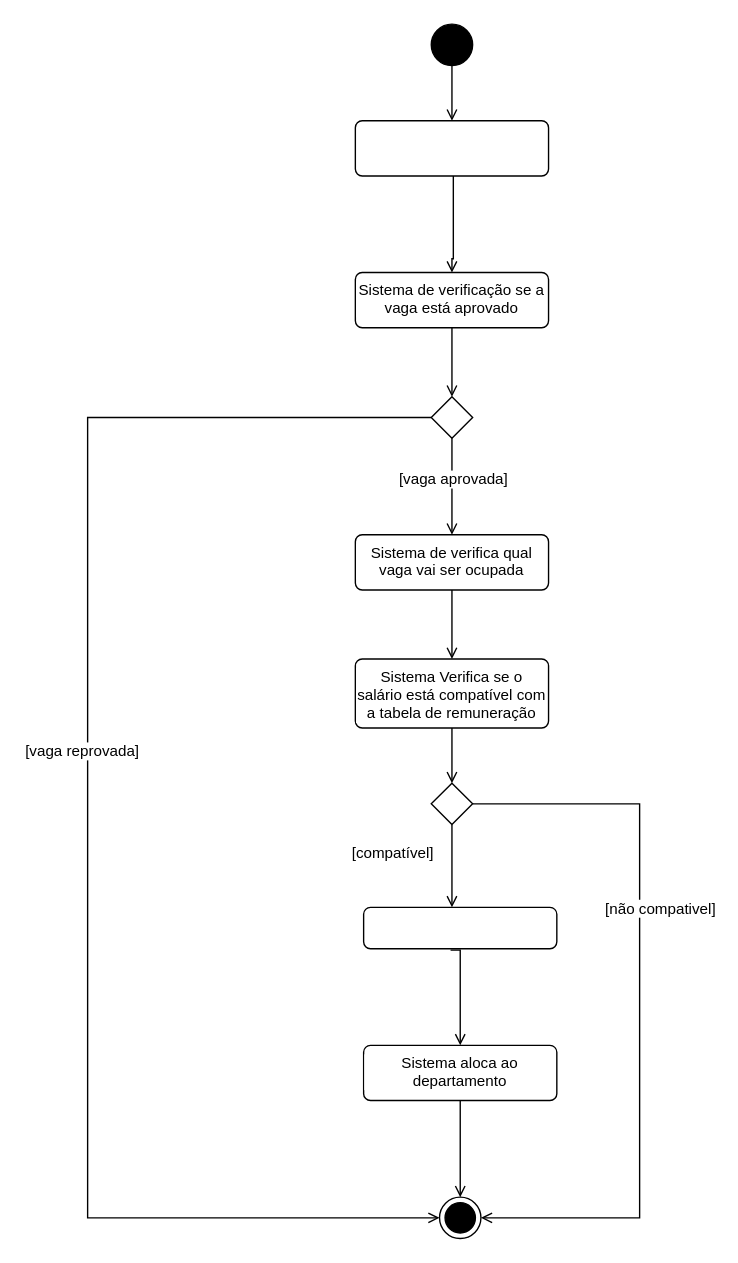
Image size: 738x1263. Some labels were removed from this diagram. The centre of each missing label's shape, as x and y in pixels:
"Gerente recebe solicitação de admissão" goes at (451,147).
"Sistema admite funcionário" goes at (459,927).
